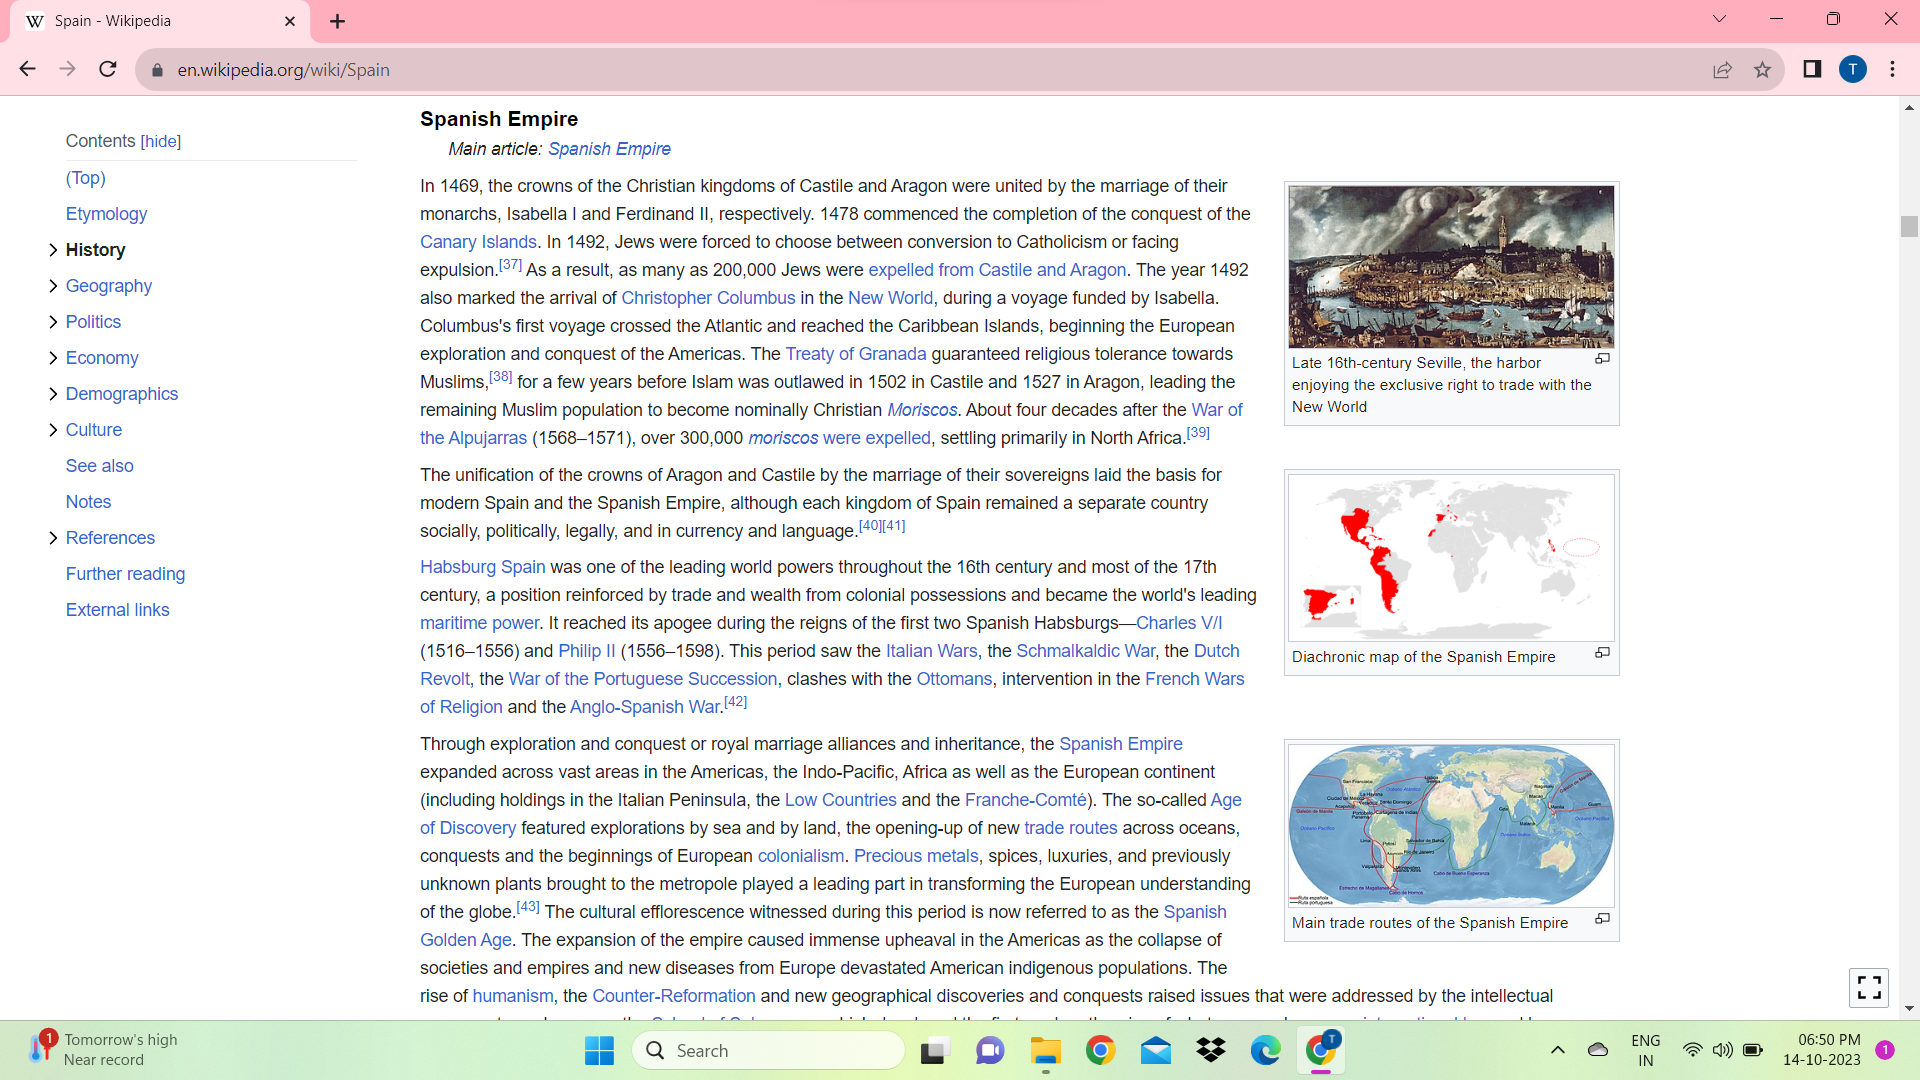Image: (1277, 729, 1616, 928), (1275, 177, 1622, 347), (1290, 472, 1612, 652)
Paragraph: (410, 729, 1566, 1020), (408, 170, 1266, 451), (397, 557, 1264, 718), (416, 462, 1232, 552), (1290, 356, 1614, 416), (440, 140, 684, 168), (408, 104, 591, 132), (60, 559, 188, 589), (60, 127, 183, 157), (56, 196, 157, 227), (67, 270, 162, 302), (67, 345, 142, 369), (60, 414, 134, 436), (56, 490, 125, 511)
